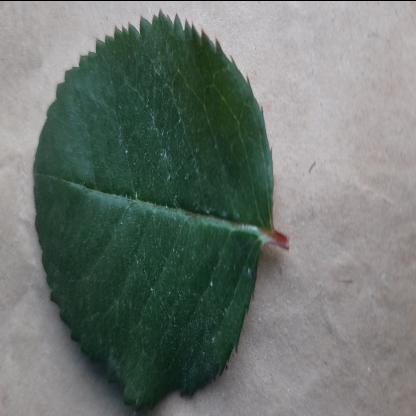normal: (34, 6, 274, 408)
